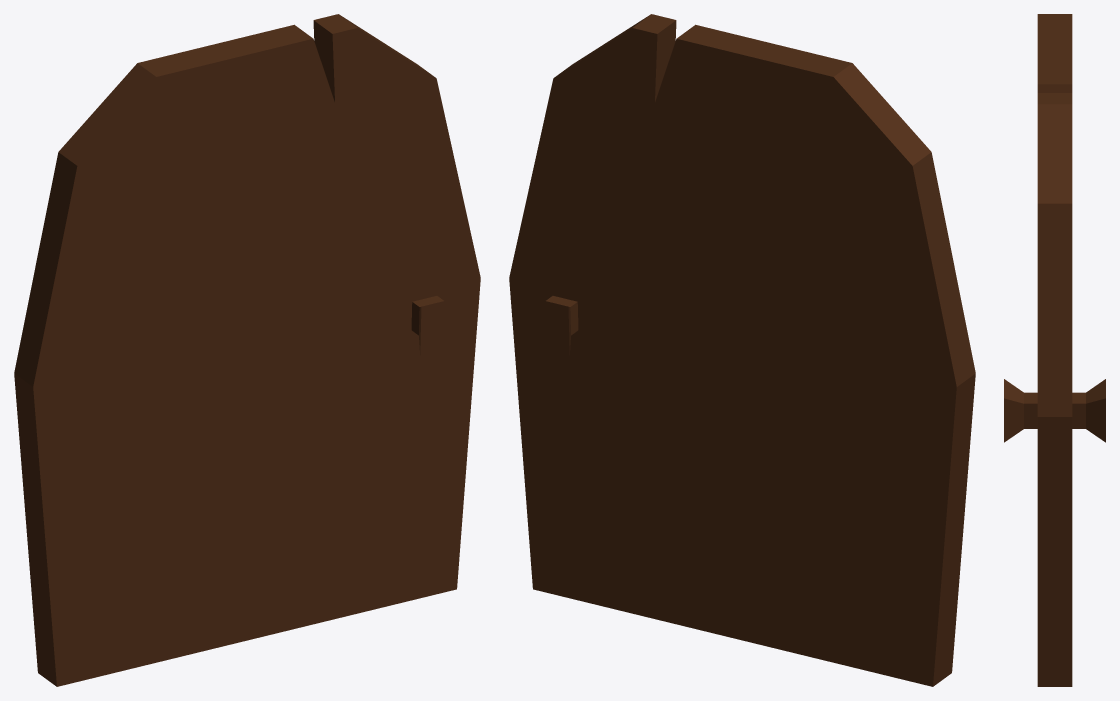
Rendered from Door.fbx.
3 views of the same model, side by side, from view 1: azimuth 30°, elevation 25°; view 2: azimuth 150°, elevation 25°; view 3: azimuth 270°, elevation 25° (orthographic). The views are drawn at different scales.
Visible parts, largest first — view 1: SmallHouse.002; view 2: SmallHouse.002; view 3: SmallHouse.002.
Boxes of the visible parts, x1,y1,x2,y2 form: SmallHouse.002: (14, 14, 480, 686); SmallHouse.002: (509, 14, 975, 686); SmallHouse.002: (1004, 14, 1105, 686).
Size of the model in its own units: 118 by 147 by 25.25.
